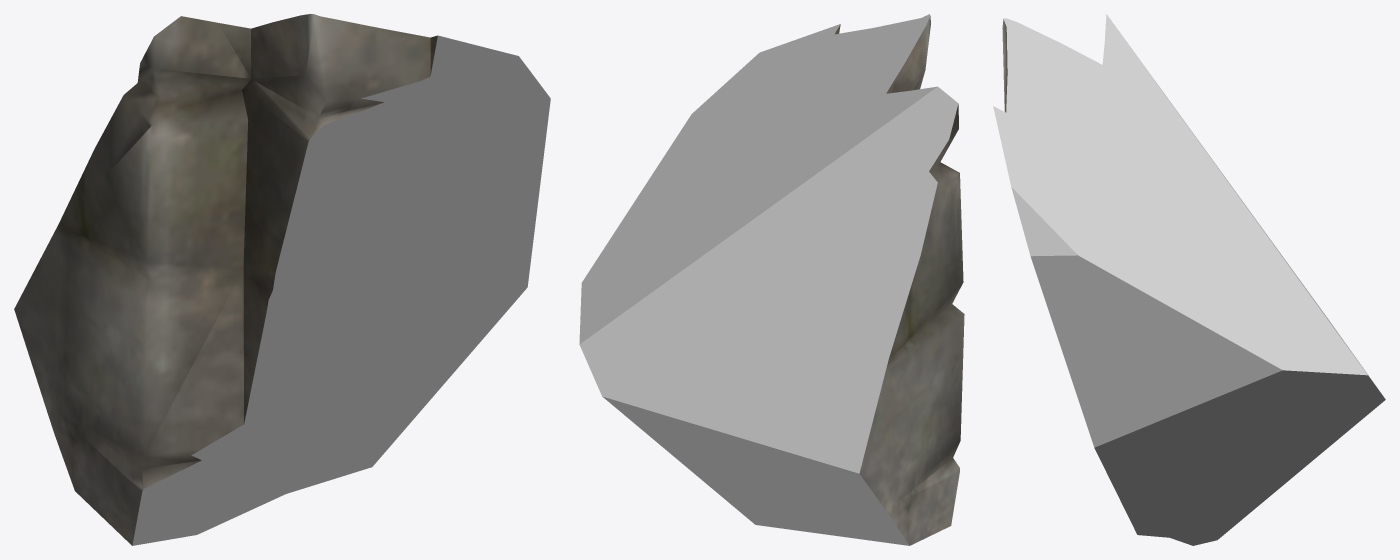
File: ColumnDamage08_44.fbx
3 views of the same model, side by side, from view 1: azimuth 30°, elevation 25°; view 2: azimuth 150°, elevation 25°; view 3: azimuth 270°, elevation 25° (orthographic). The views are drawn at different scales.
Parts seen in each view (by area): view 1: ColumnDamage08_DM.044; view 2: ColumnDamage08_DM.044; view 3: ColumnDamage08_DM.044.
Part boxes in pixels (box(x1,y1,x2,y2)): ColumnDamage08_DM.044: box(14, 14, 550, 545); ColumnDamage08_DM.044: box(579, 14, 964, 545); ColumnDamage08_DM.044: box(993, 14, 1385, 545).
Size of the model in its own units: 114 by 166 by 121.
